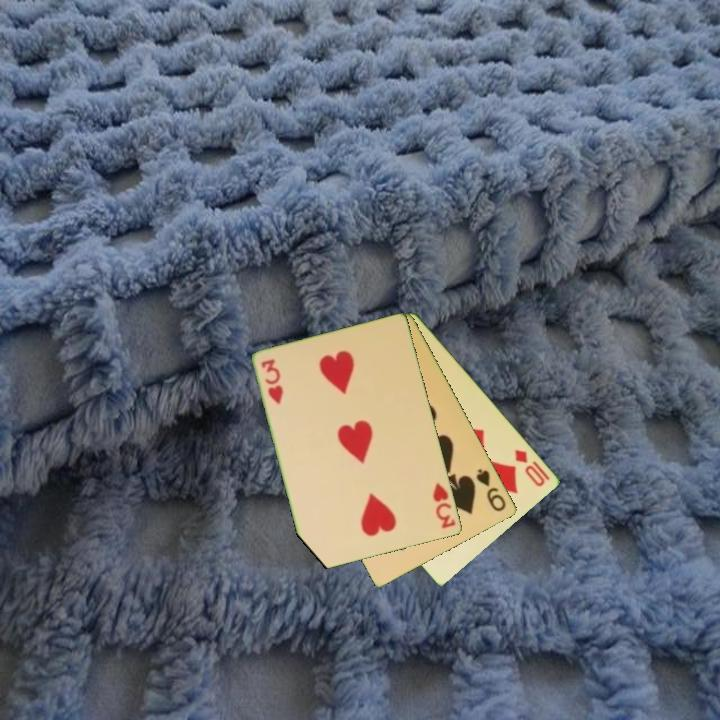10d: (511, 446, 548, 490)
3h: (430, 479, 458, 532), (258, 355, 286, 407)
9s: (473, 465, 509, 515)
